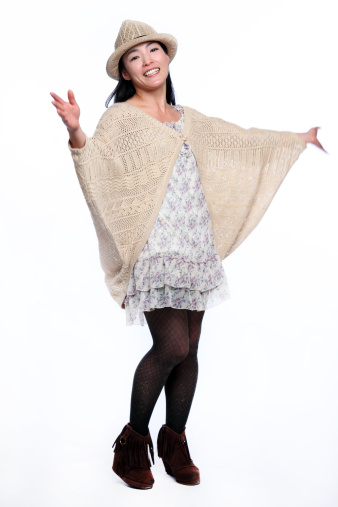em pe: (80, 4, 314, 488)
